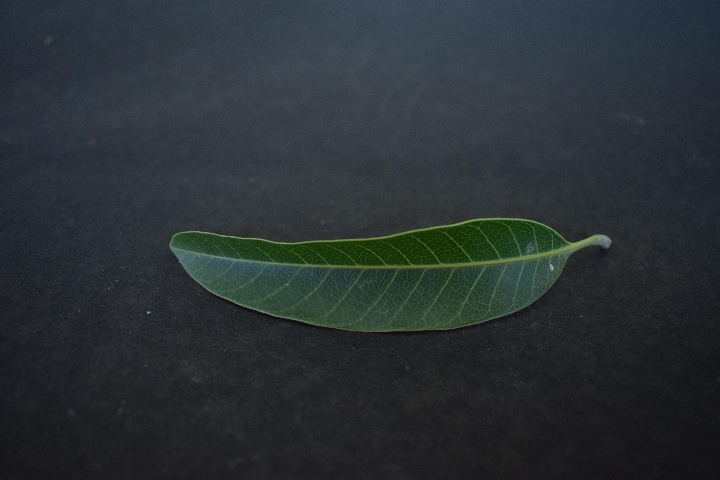healthy: (166, 218, 572, 337)
